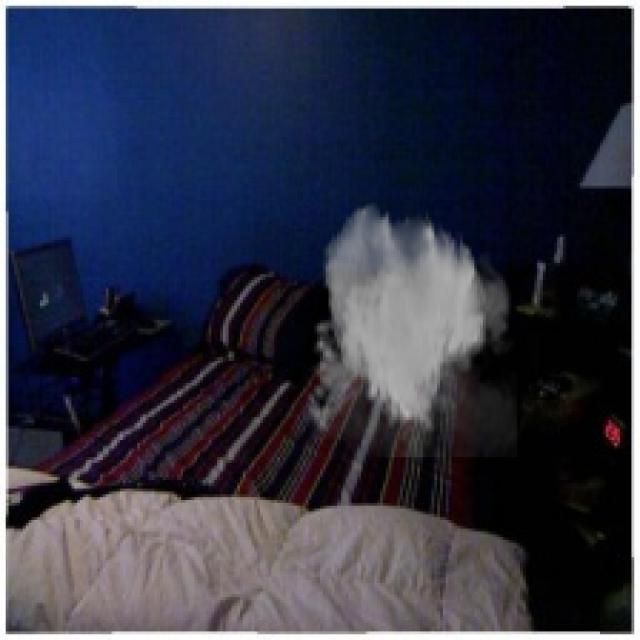Smoke: (300, 200, 517, 457)
